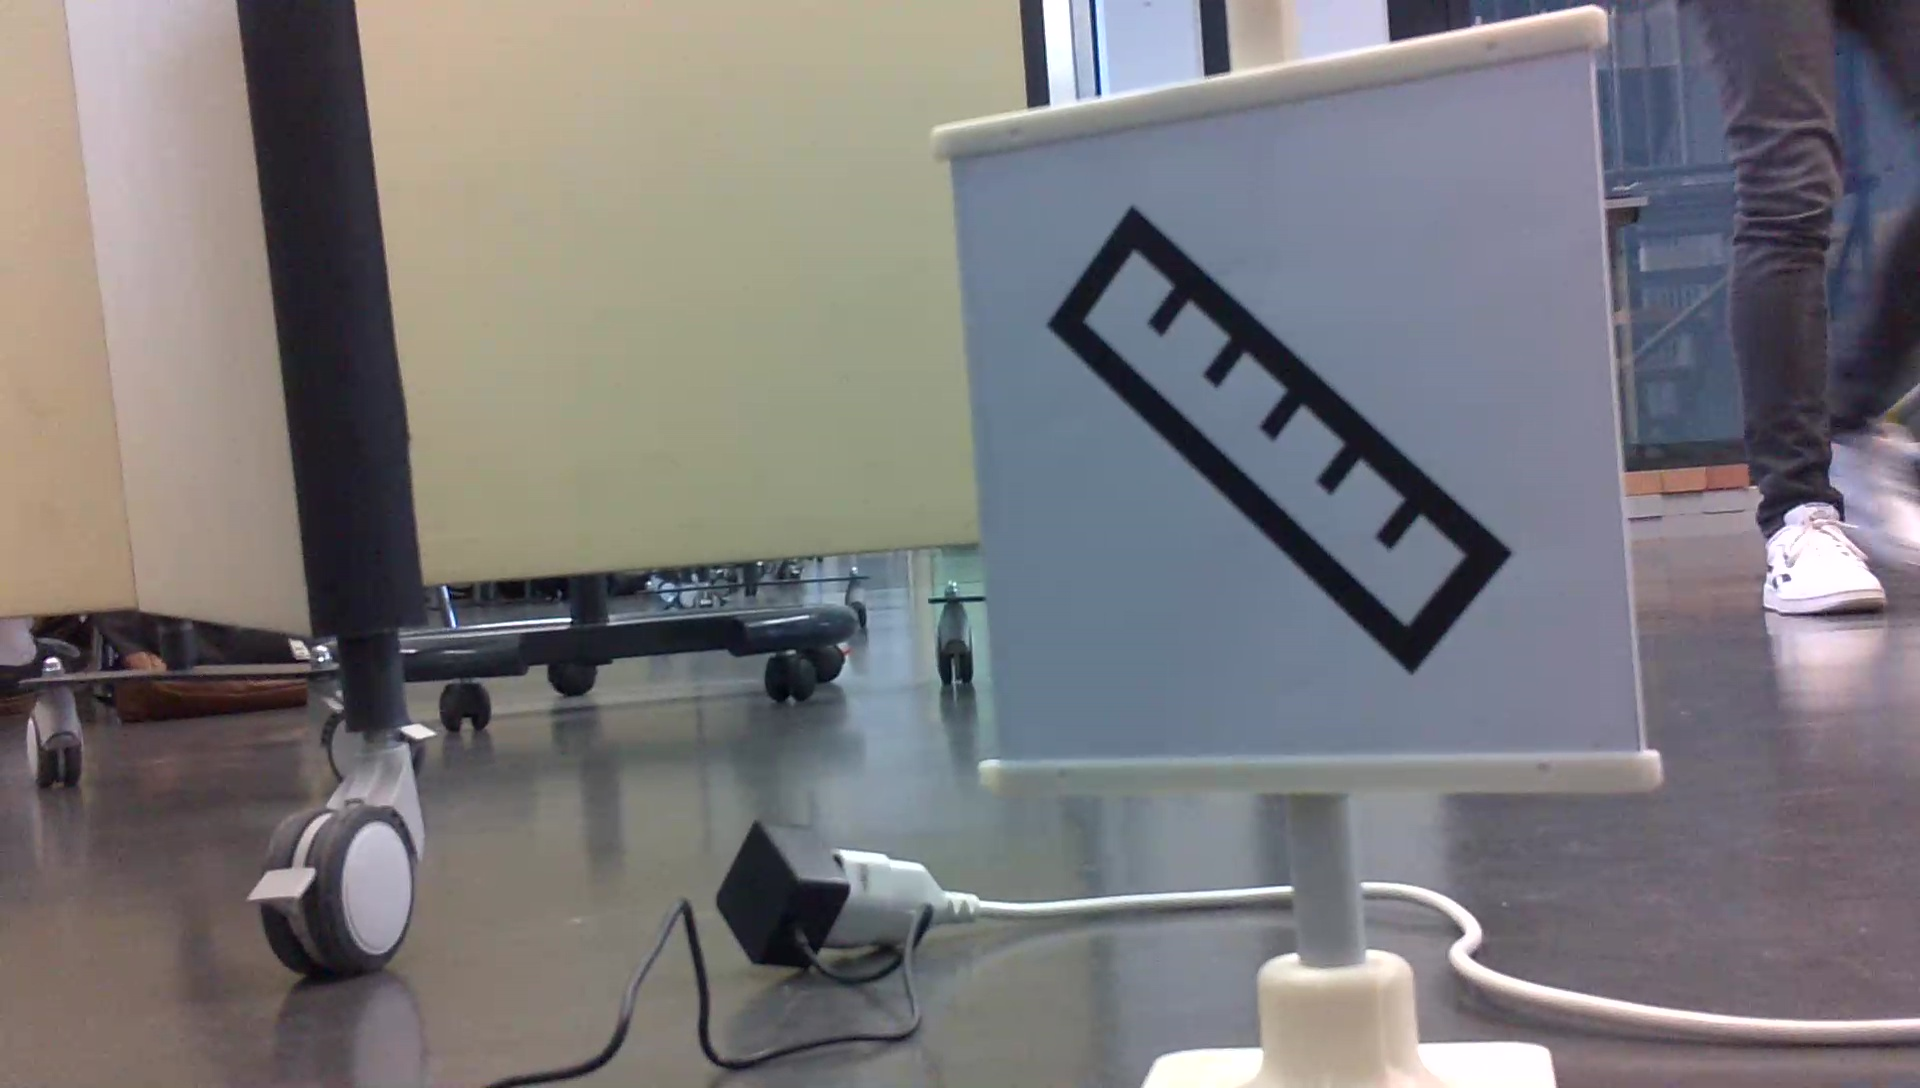ruler: (1044, 200, 1540, 674)
